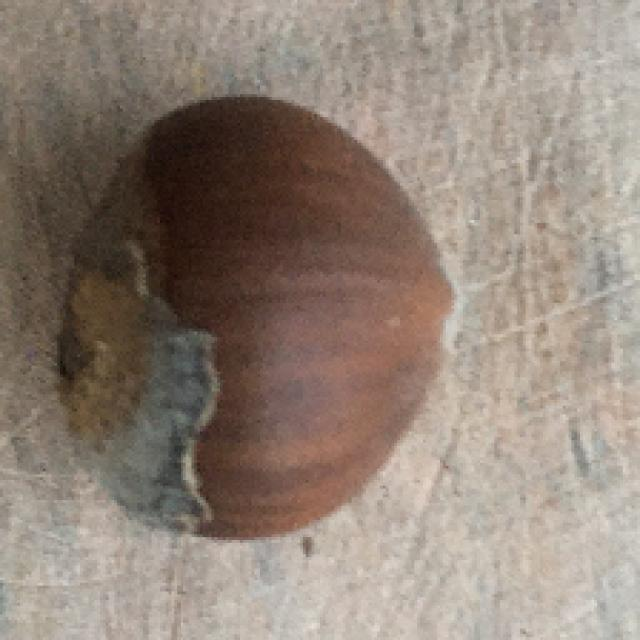damagedHazelnut: (57, 93, 461, 534)
